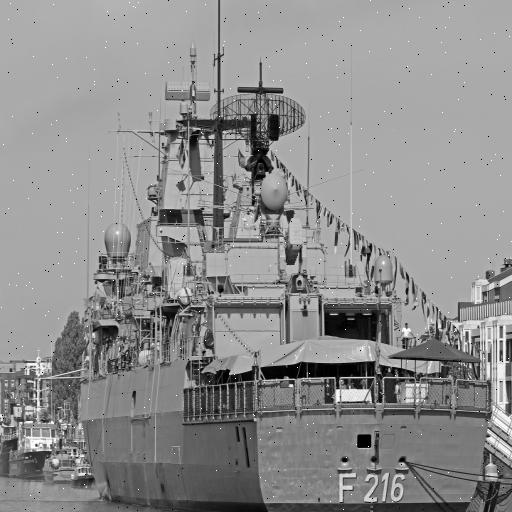Fragata: (78, 1, 494, 512)
